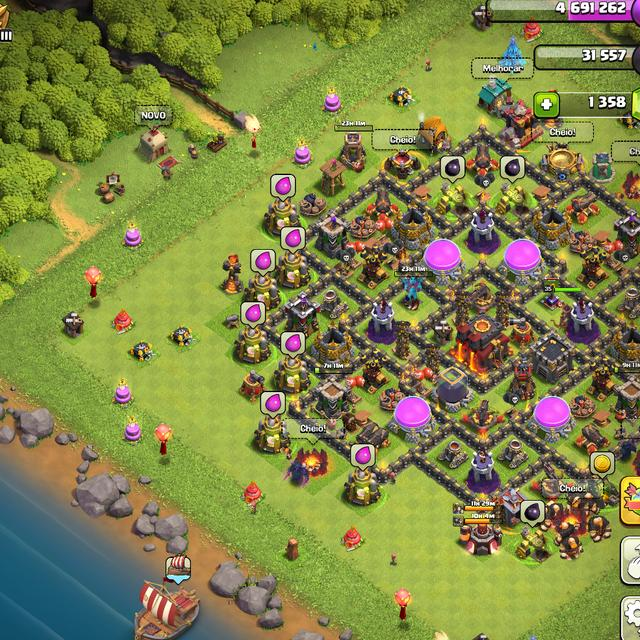Elixir: (270, 174, 296, 204), (261, 391, 285, 421), (251, 249, 275, 278), (281, 227, 306, 254), (280, 332, 305, 359), (351, 443, 375, 471), (241, 302, 265, 329)
ElixirNegro: (521, 499, 545, 528), (441, 156, 466, 183), (501, 156, 525, 184)
coin: (590, 451, 616, 478)
